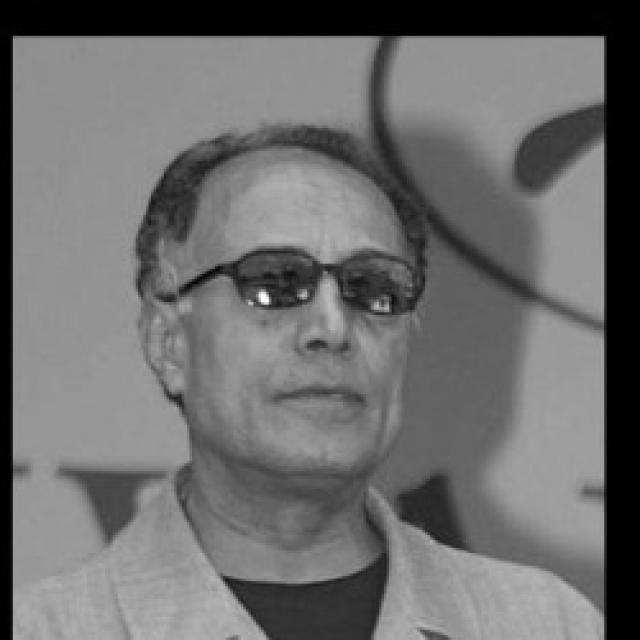fake: (215, 233, 424, 326)
real: (142, 142, 422, 478)
